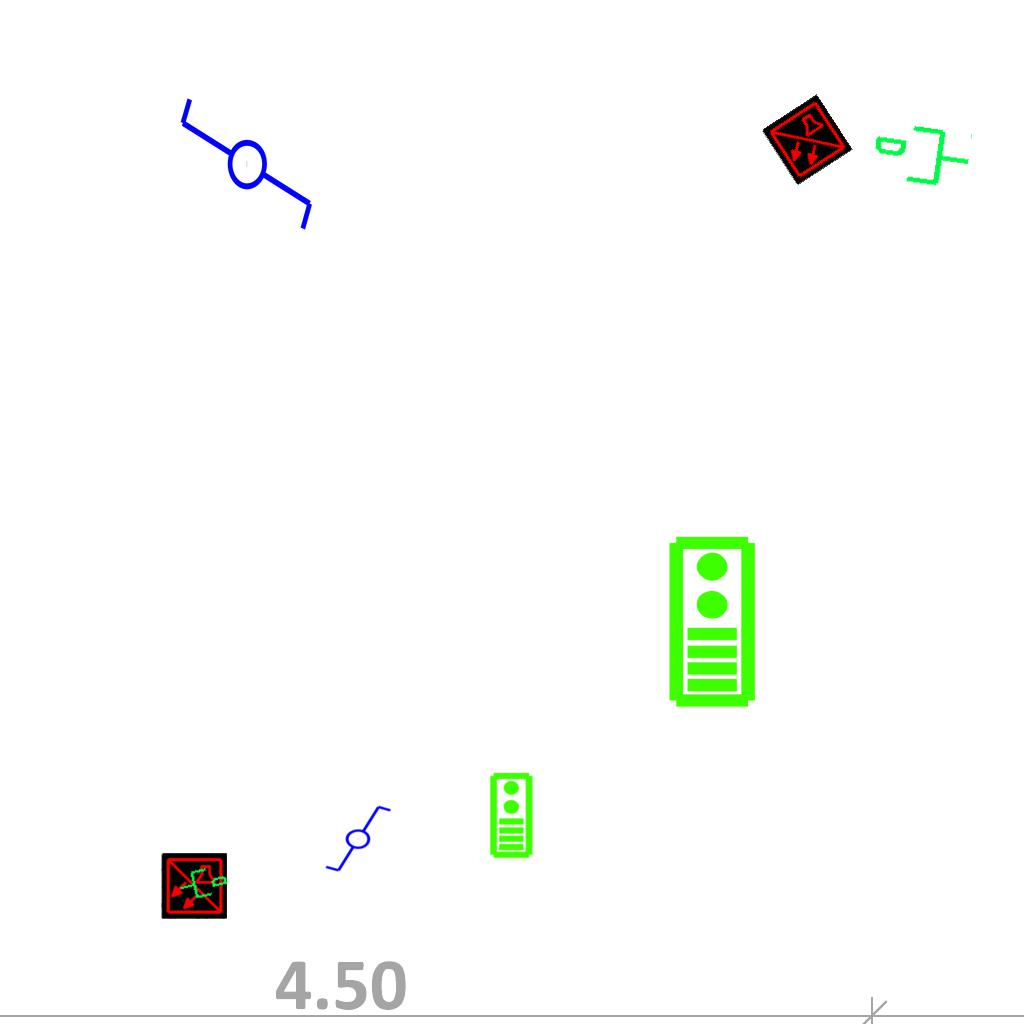Datenanschluss_einfach: (867, 115, 976, 199), (174, 859, 232, 905)
Gegensprechanlage_mit_Video: (663, 533, 758, 709), (487, 771, 534, 859)
OKW_Multisensormelder_(Kombination_optischer_Rauch-Kahlenmonoxid_Waerme-Melder): (761, 94, 853, 186), (161, 853, 227, 919)
Wechselschalter: (173, 94, 317, 251), (315, 802, 393, 874)
